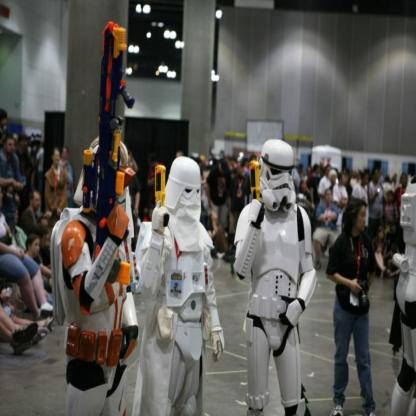Helmet: (73, 136, 129, 210), (247, 140, 302, 214), (165, 155, 201, 213)
